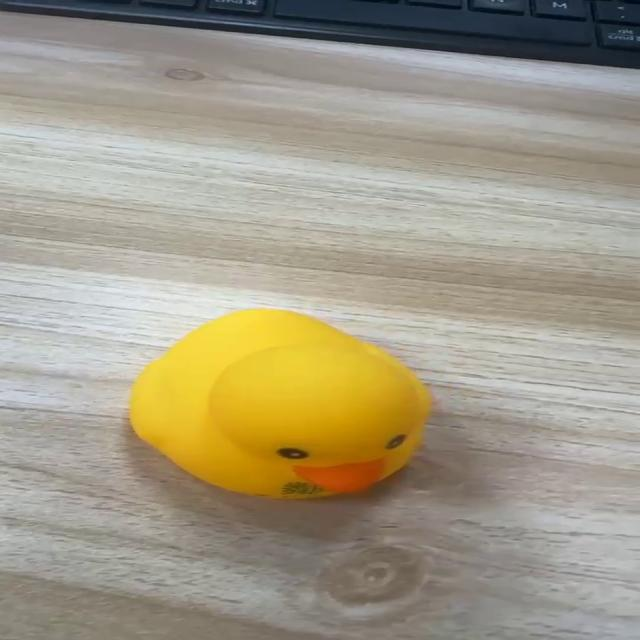yellow_duck: (125, 306, 434, 500)
